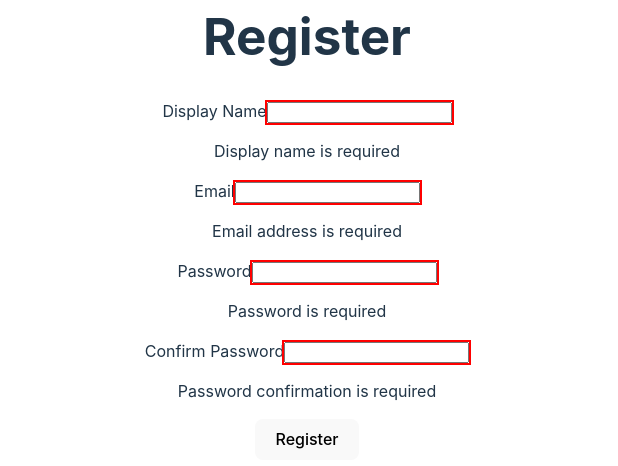
<Register> › Confirm Password Input › Requires password confirmation to match password
Type "testpassword" into the password field labelled "Password" at x=344, y=272, box [252,262,436,283]
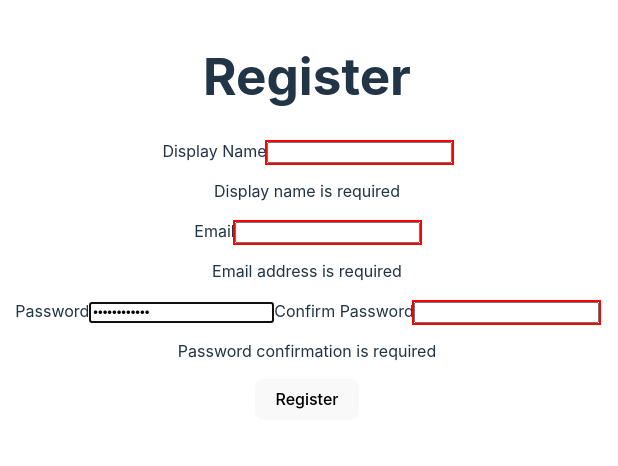
Type "test" into the password field labelled "Confirm Password" at x=506, y=312, box [414,302,599,323]
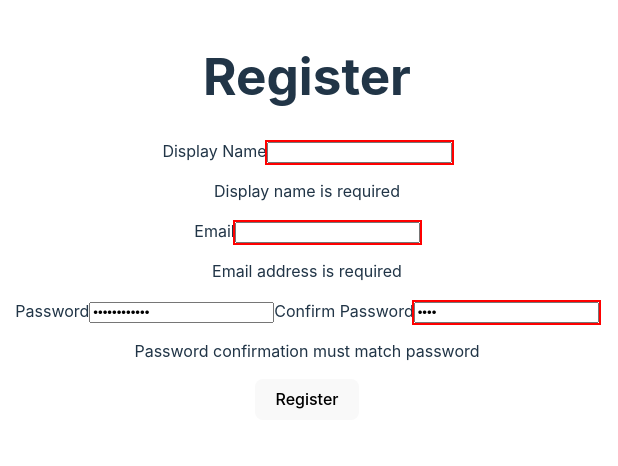
Expected: the text "Password confirmation must match password" is shown, [134,341,480,361]
